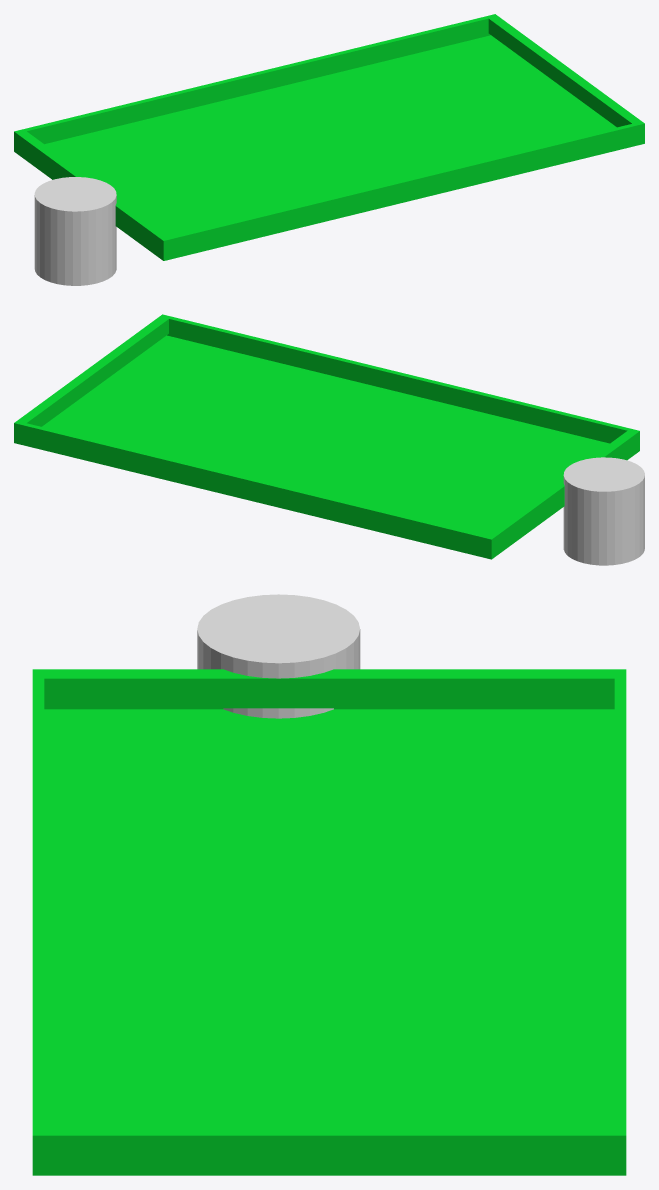
The model's file is pool_table.glb.
3 views of the same model, one above another, from view 1: azimuth 30°, elevation 25°; view 2: azimuth 150°, elevation 25°; view 3: azimuth 270°, elevation 25° (orthographic). The views are drawn at different scales.
Visible parts, largest first — view 1: felt, Cylinder; view 2: felt, Cylinder; view 3: felt, Cylinder.
Part boxes in pixels (box(x1,y1,x2,y2)): felt: box(14, 14, 644, 260); Cylinder: box(34, 177, 116, 285); felt: box(14, 314, 639, 559); Cylinder: box(563, 457, 644, 565); felt: box(32, 669, 626, 1175); Cylinder: box(197, 594, 360, 718).
Bounding box in the file's own units: 15.27 × 2 × 7.29.
